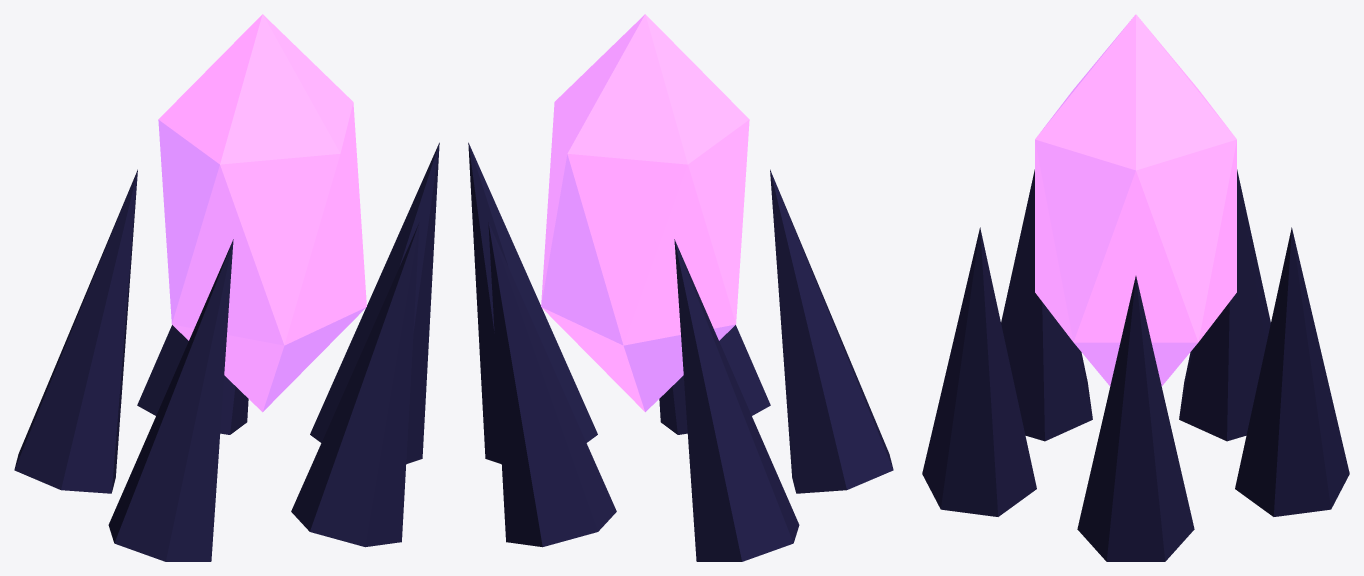
Rendered from corazon_giza.glb.
3 views of the same model, side by side, from view 1: azimuth 30°, elevation 25°; view 2: azimuth 150°, elevation 25°; view 3: azimuth 270°, elevation 25° (orthographic).
Parts seen in each view (by area): view 1: Icosphere, Cone.004, Cone.003, Cone.002, Cone, Cone.001; view 2: Icosphere, Cone.001, Cone.002, Cone.003, Cone, Cone.004; view 3: Icosphere, Cone, Cone.001, Cone.004, Cone.002, Cone.003.
Boxes of the visible parts, x1,y1,x2,y2 form: Icosphere: (158, 14, 366, 412); Cone.004: (291, 222, 419, 547); Cone.003: (108, 239, 233, 561); Cone.002: (14, 169, 137, 493); Cone: (310, 142, 439, 463); Cone.001: (137, 325, 248, 434); Icosphere: (541, 14, 749, 412); Cone.001: (488, 222, 616, 547); Cone.002: (674, 239, 799, 561); Cone.003: (770, 169, 893, 493); Cone: (468, 142, 597, 463); Cone.004: (659, 325, 770, 434); Icosphere: (1035, 14, 1236, 386); Cone: (1077, 276, 1194, 561); Cone.001: (1235, 227, 1349, 516); Cone.004: (922, 227, 1036, 516); Cone.002: (1179, 169, 1270, 441); Cone.003: (1001, 169, 1092, 441).
Bounding box in the file's own units: 1.12 × 1.35 × 1.09.
